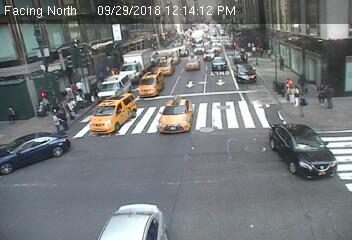car: (267, 123, 337, 179), (1, 130, 70, 174), (91, 206, 169, 240), (86, 93, 132, 136), (158, 98, 193, 132), (119, 49, 150, 81), (96, 75, 134, 98), (232, 62, 257, 85), (138, 70, 160, 96), (157, 56, 174, 75), (183, 55, 199, 70), (204, 49, 217, 61), (193, 44, 204, 55), (211, 56, 221, 68), (224, 38, 235, 48)
